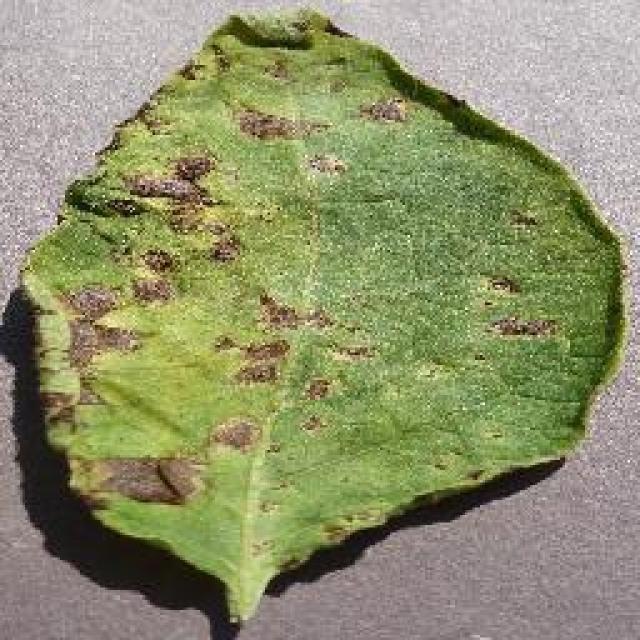early_blight: (12, 2, 632, 628)
